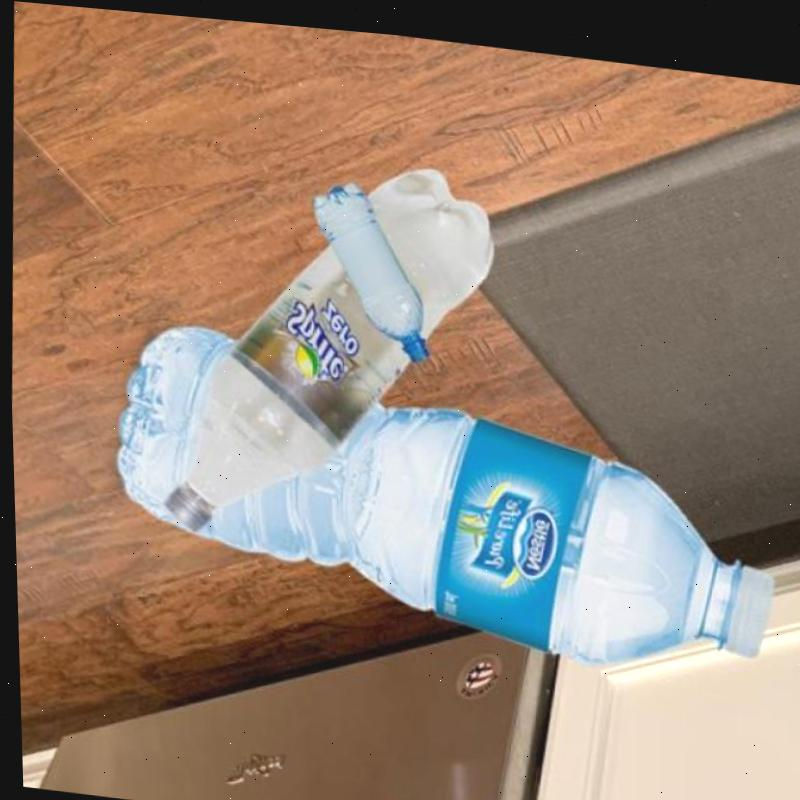botella: (105, 313, 780, 674), (151, 127, 505, 562), (304, 169, 432, 357)
